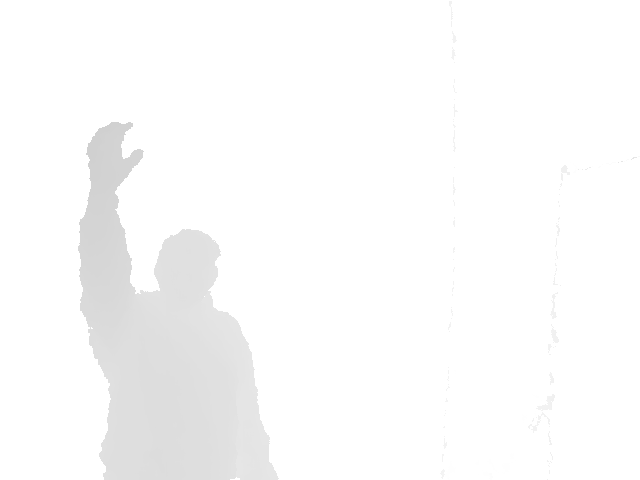hand: (84, 120, 145, 190)
head: (153, 227, 221, 317)
person: (77, 119, 280, 480)
